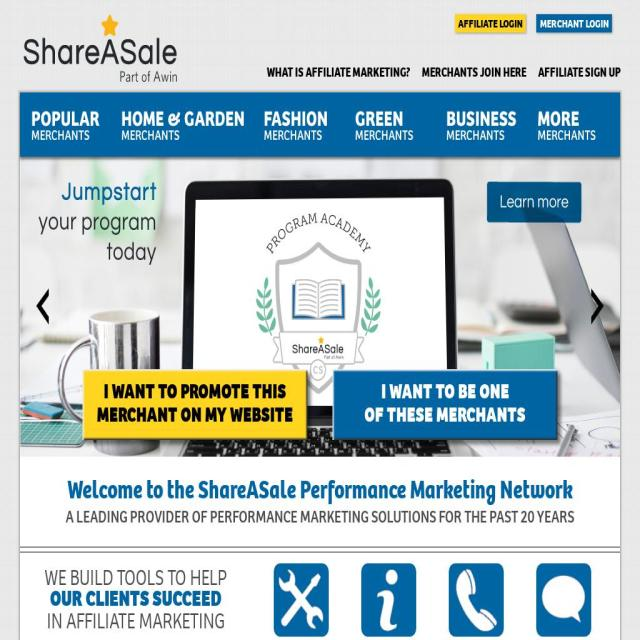button: (20, 8, 236, 88), (82, 368, 308, 440), (332, 368, 558, 440), (438, 562, 514, 640), (526, 562, 602, 640), (264, 562, 338, 640), (352, 562, 426, 640), (267, 63, 410, 81), (422, 63, 526, 81), (536, 14, 612, 34), (538, 63, 621, 81), (454, 14, 526, 34)
image: (20, 156, 620, 457), (19, 8, 180, 88), (620, 156, 640, 457), (118, 104, 248, 147), (448, 562, 504, 636), (536, 562, 592, 636), (274, 562, 328, 636), (362, 562, 416, 636), (532, 104, 614, 147), (27, 104, 108, 147), (259, 104, 340, 147), (350, 104, 431, 147), (442, 104, 522, 147), (39, 286, 52, 326), (588, 286, 601, 326)
text: (68, 474, 572, 507), (66, 506, 574, 529), (20, 588, 251, 611), (44, 563, 227, 592), (46, 607, 225, 635), (97, 404, 293, 428), (104, 381, 286, 405), (364, 404, 526, 428), (380, 381, 510, 405)
